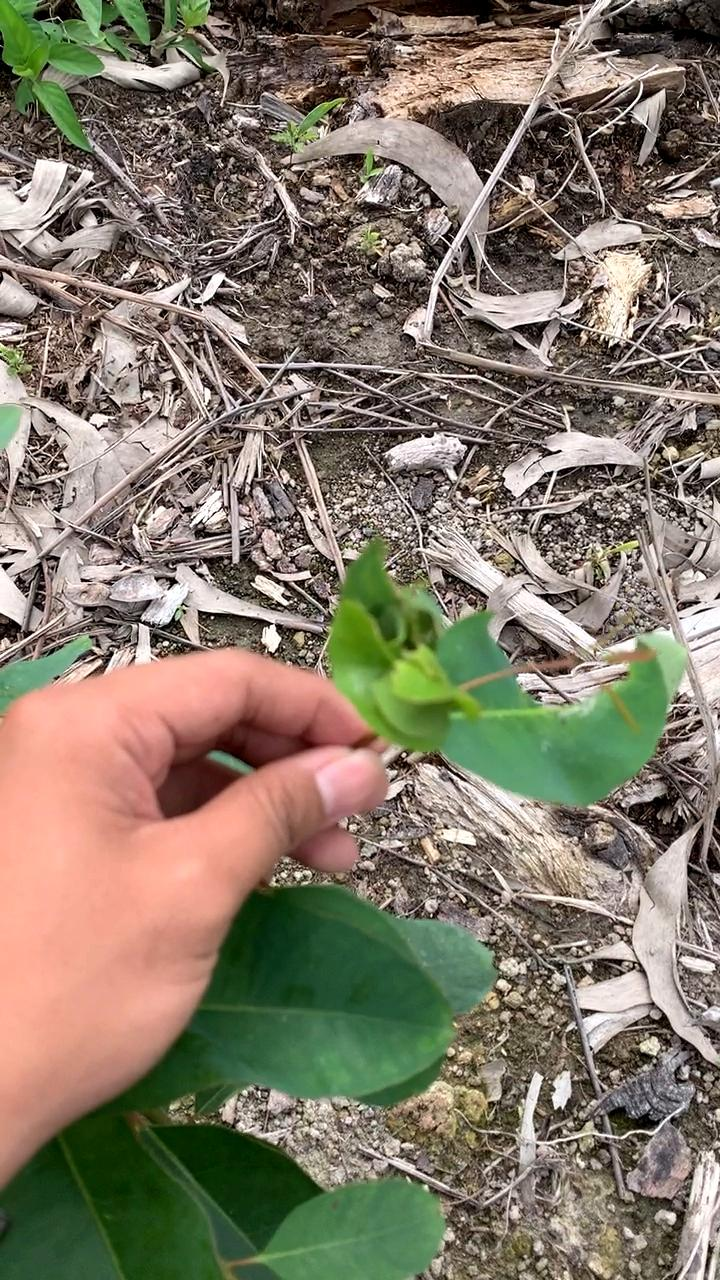Leaf Roller - Leaf: (318, 517, 475, 769)
